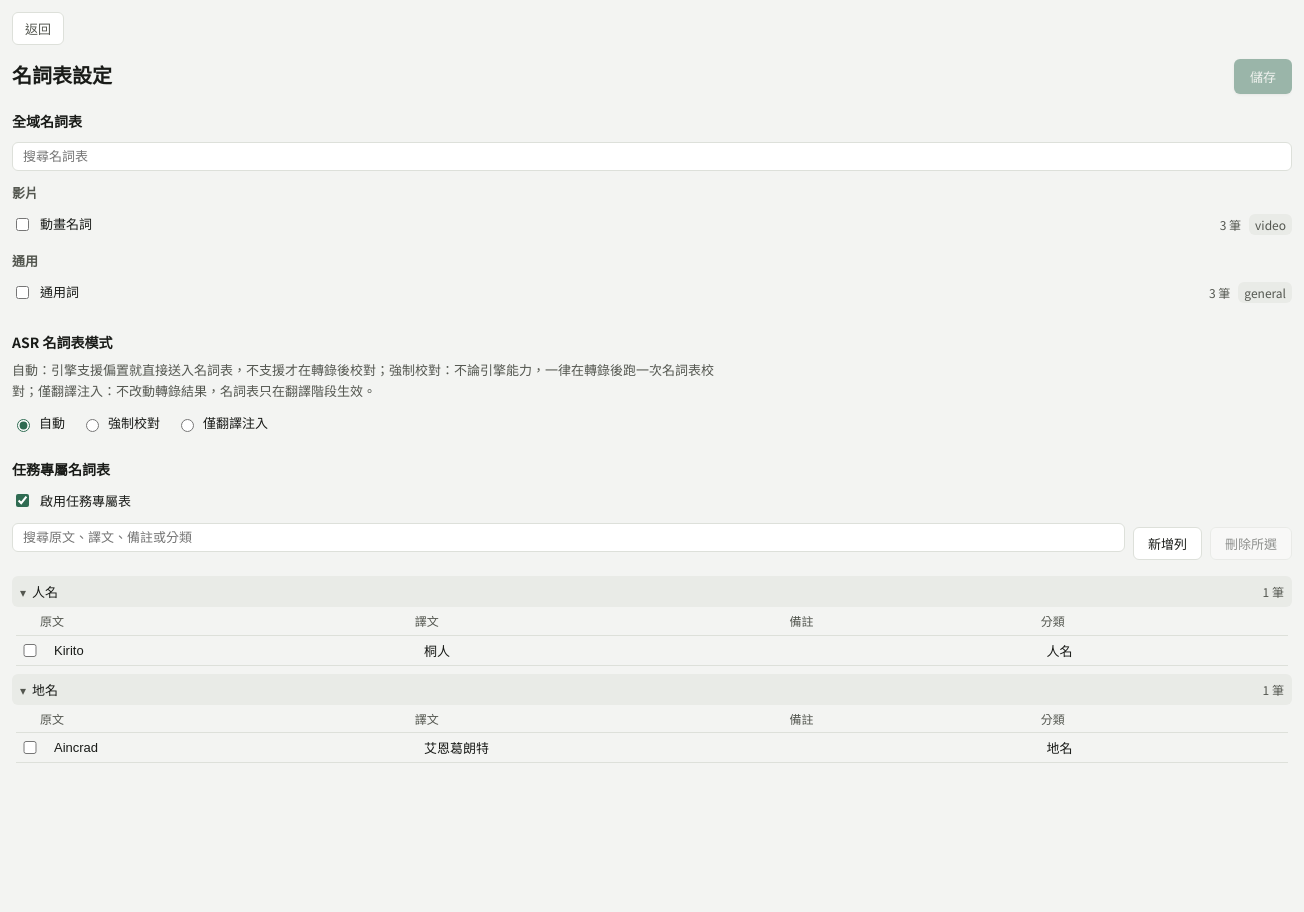
Scenario: the global-table search filters tables, not the entry table
This screenshot has width=1304, height=912.
Check: the text "動畫名詞" is shown, box [40,214,92,233]
Check: the text "通用詞" is shown, box [40,282,79,301]
Type "通用" into the search field labelled "搜尋名詞表". click: (652, 157)
box: [12,142,1292,171]
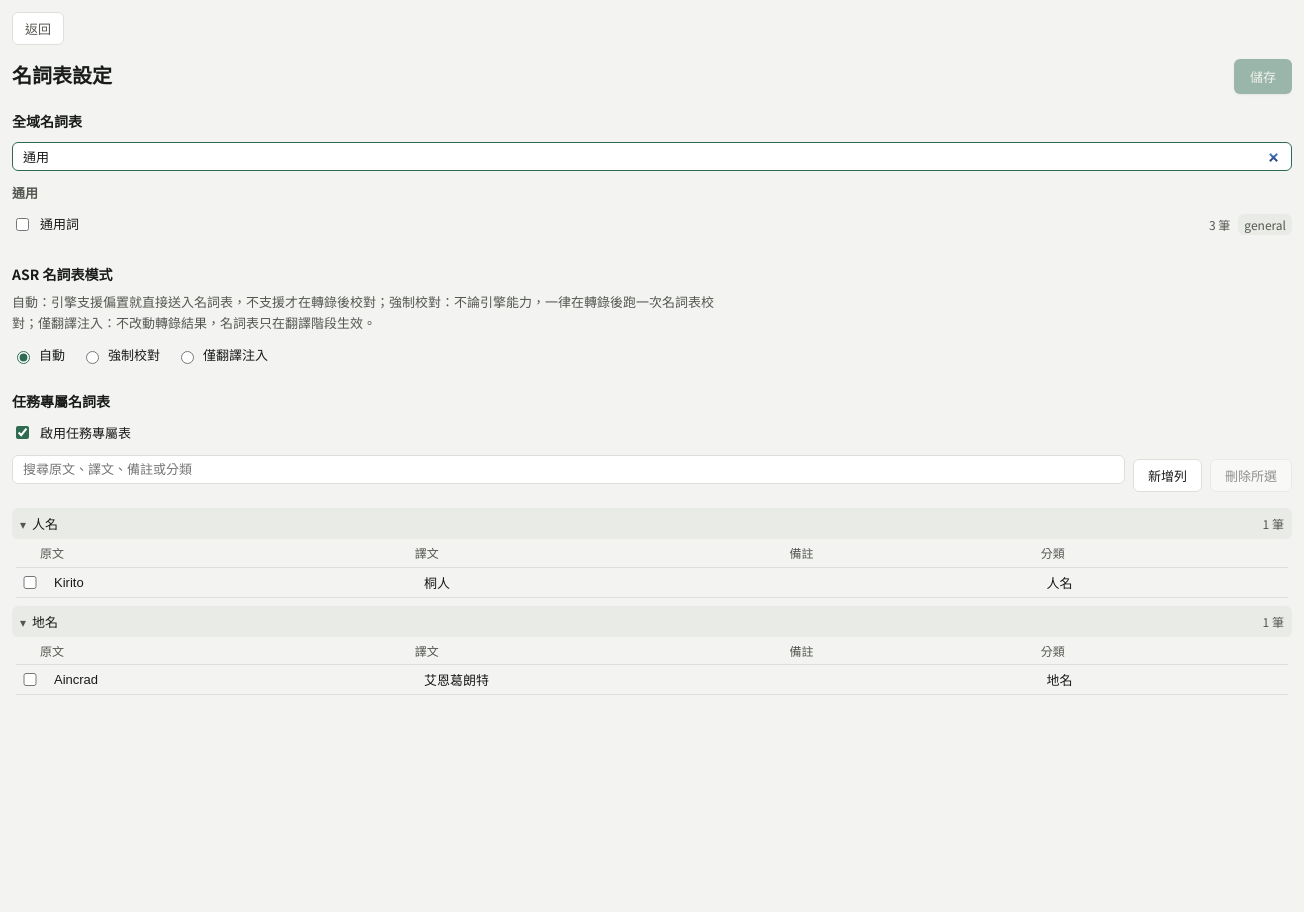
Check: the text "通用詞" is shown, box [40,214,79,233]
Check: the text "動畫名詞" is gone
